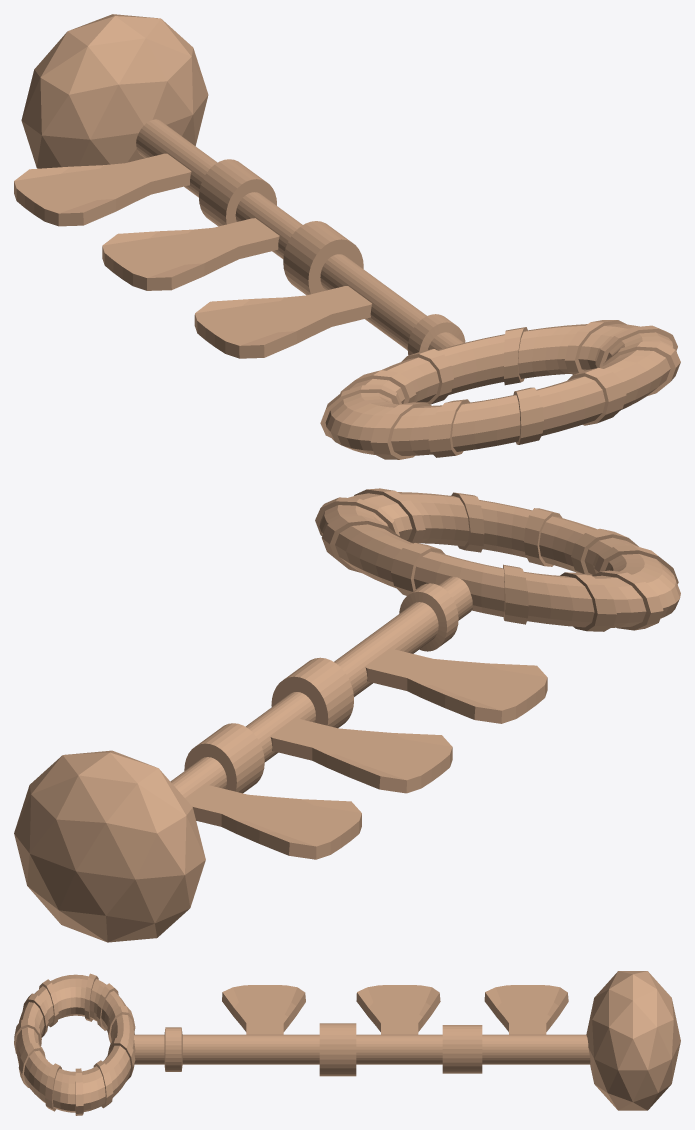
File: Key.fbx
3 views of the same model, one above another, from view 1: azimuth 30°, elevation 25°; view 2: azimuth 150°, elevation 25°; view 3: azimuth 270°, elevation 25° (orthographic). The views are drawn at different scales.
Parts seen in each view (by area): view 1: Cylinder; view 2: Cylinder; view 3: Cylinder.
Part boxes in pixels (x1,y1,x2,y2): Cylinder: (14,14,680,459); Cylinder: (14,488,680,942); Cylinder: (14,971,680,1115).
Size of the model in its own units: 2.59 by 1.31 by 5.93.
